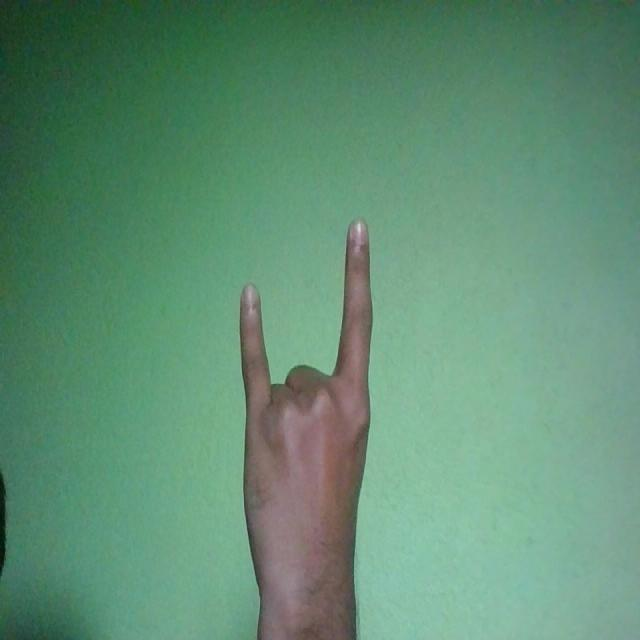open Plam: (238, 216, 374, 626)
